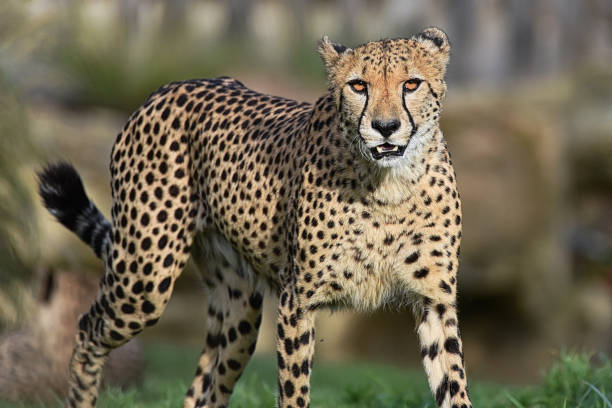cheetah: (305, 24, 469, 183)
